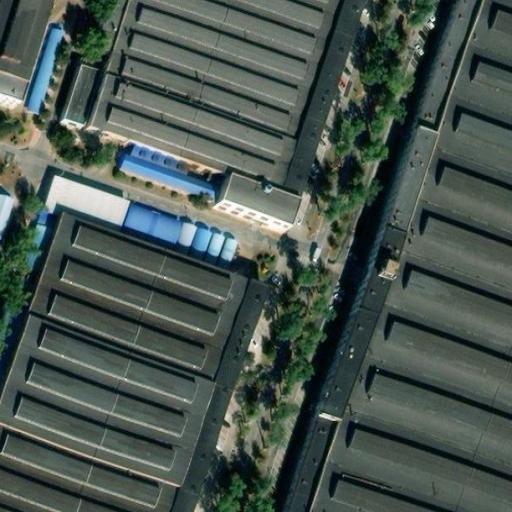building: (271, 0, 512, 512), (57, 0, 361, 232), (19, 176, 126, 277), (114, 202, 183, 256), (0, 186, 15, 250)
